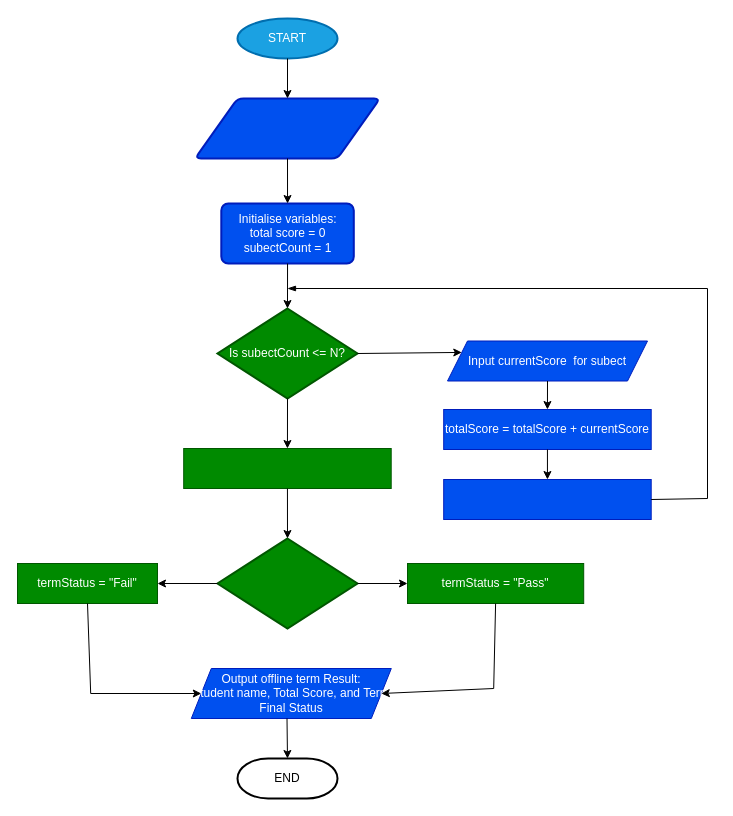
This 733x816 diagram has some shape labels left out. Each missing label, with the box of its shape:
averageScore = totalScore / N: (183, 448, 391, 488)
Input student name and Number of subect (N): (194, 97, 380, 159)
Is averageScore <= 50?: (216, 537, 358, 629)
subectCount = subeectCount + 1: (443, 478, 651, 520)
